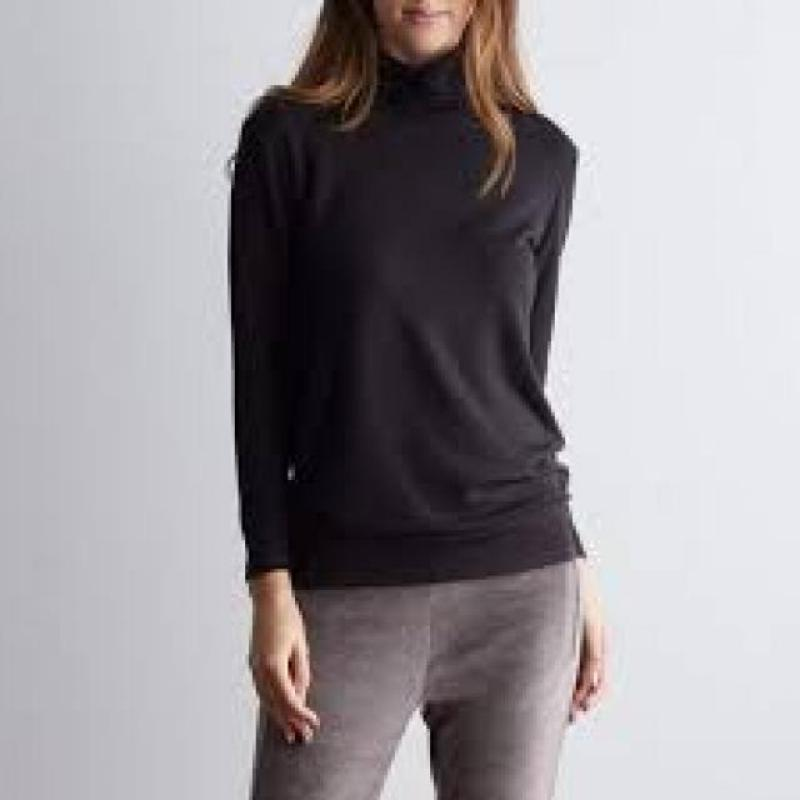sweater: (225, 50, 587, 581)
trousers: (248, 558, 589, 800)
